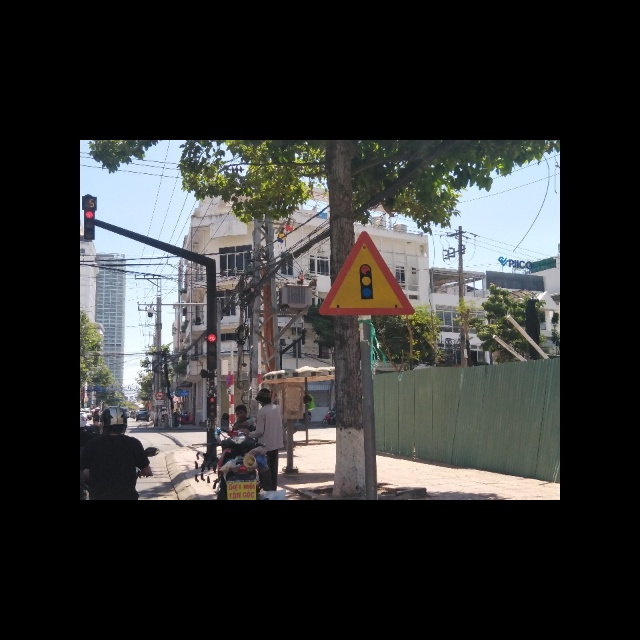Giao nhau có tín hiệu đèn: (316, 229, 419, 317)
Đèn đỏ: (207, 334, 216, 343)
